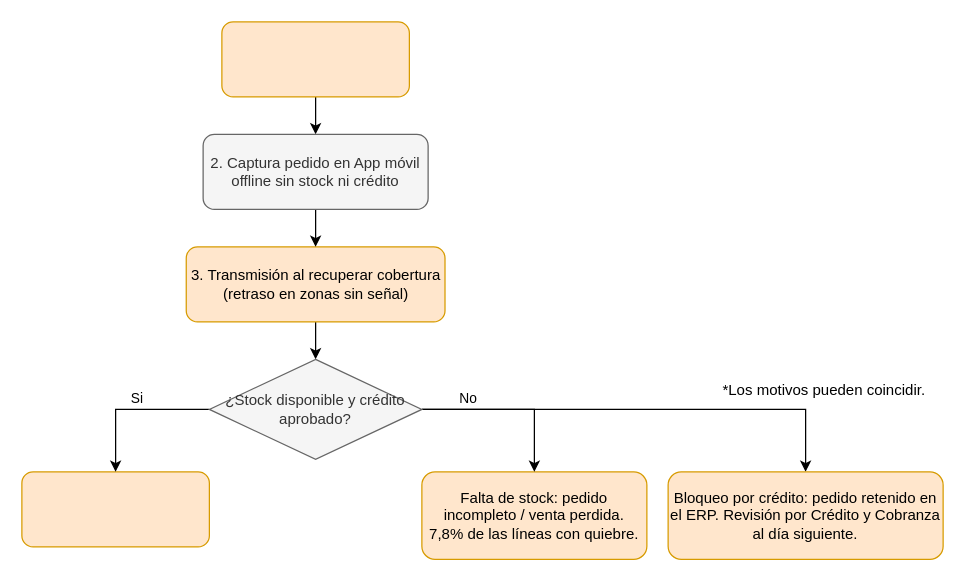
This 965x581 diagram has some shape labels left out. The centre of each missing label's shape, as x and y in pixels:
"1. Visita presencial al cliente (62 preventistas)" goes at (315,59).
"4. Ingreso formal a cola de procesamiento en el ERP" goes at (115,509).
